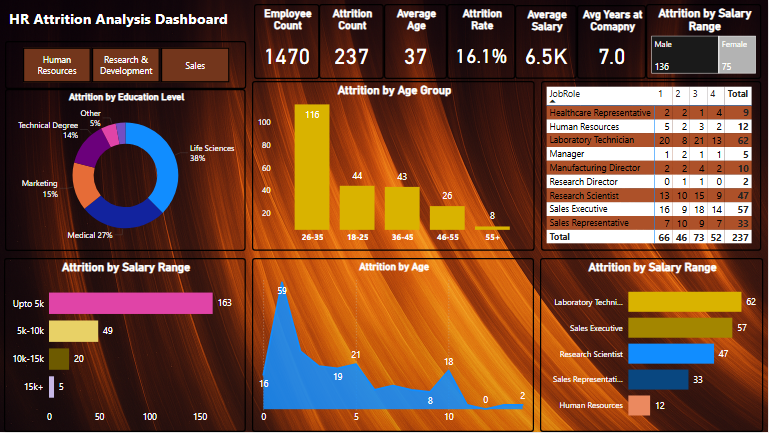

Layout of this report page (visuals, bound fields, positions):
{"tool":"powerbi","page":{"name":"Page 1","canvas":[1280,720],"ordinal":0},"visuals":[{"type":"card","title":"Employee Count","fields":{"Values":["Sum(HR_Analytics.EmployeeCount)"]},"box":[420,6.7,111.7,125],"z":0},{"type":"card","title":"Attrition Count","fields":{"Values":["Sum(HR_Analytics.Attrition_Count)"]},"box":[532.3,6.2,107.7,124.6],"z":1000},{"type":"card","title":"Attrition Rate","fields":{"Values":["HR_Analytics.Attrition_Rate"]},"box":[744.6,6.2,113.8,124.6],"z":2000},{"type":"card","title":"Average Age","fields":{"Values":["Avg(HR_Analytics.Age)"]},"box":[640,6.2,104.6,124.6],"z":3000},{"type":"card","title":"Average Salary","fields":{"Values":["Avg(HR_Analytics.MonthlyIncome)"]},"box":[858.5,7.7,103.1,123.1],"z":4000},{"type":"card","title":"Avg Years at Comapny","fields":{"Values":["Avg(HR_Analytics.YearsAtCompany)"]},"box":[961.5,7.7,115.4,123.1],"z":5000},{"type":"donutChart","title":"Attrition by Education Level","fields":{"Y":["Sum(HR_Analytics.Attrition_Count)"],"Category":["HR_Analytics.EducationField"]},"box":[0,148.3,410,270],"z":6000},{"type":"columnChart","title":"Attrition by Age Group","fields":{"Category":["HR_Analytics.AgeGroup"],"Y":["Sum(HR_Analytics.Attrition_Count)"]},"box":[420,135.4,470.8,283.1],"z":7000},{"type":"pivotTable","fields":{"Values":["Sum(HR_Analytics.Attrition_Count)"],"Columns":["HR_Analytics.JobSatisfaction"],"Rows":["HR_Analytics.JobRole"]},"box":[901.7,135,378.3,283.3],"z":8000},{"type":"barChart","title":"Attrition by Salary Range","fields":{"Category":["HR_Analytics.SalarySlab"],"Y":["Sum(HR_Analytics.Attrition_Count)"]},"box":[0,428.3,408.3,291.7],"z":9000},{"type":"treemap","title":"Attrition by Salary Range","fields":{"Group":["HR_Analytics.Gender","HR_Analytics.JobRole"],"Values":["Sum(HR_Analytics.Attrition_Count)"]},"box":[1076.7,8.3,203.3,123.3],"z":10000},{"type":"areaChart","title":"Attrition by Age ","fields":{"Y":["Sum(HR_Analytics.Attrition_Count)"],"Category":["HR_Analytics.YearsAtCompany"]},"box":[420,428.3,470,291.7],"z":11000},{"type":"barChart","title":"Attrition by Salary Range","fields":{"Category":["HR_Analytics.JobRole"],"Y":["Sum(HR_Analytics.Attrition_Count)"]},"box":[898.3,428.3,381.7,291.7],"z":12000},{"type":"slicer","fields":{"Values":["HR_Analytics.Department"]},"box":[0,68.3,410,80],"z":13000},{"type":"textbox","box":[9.2,7.7,401.5,47.7],"z":14000}]}

Visuals, with their boxes in screenshot pixels (x1, y1, x2, y2), scaled from the page's 1280x720 canvas onto the 769x433 screenshot:
"Employee Count" card: [x1=252, y1=4, x2=319, y2=79]
"Attrition Count" card: [x1=320, y1=4, x2=384, y2=79]
"Attrition Rate" card: [x1=447, y1=4, x2=516, y2=79]
"Average Age" card: [x1=384, y1=4, x2=447, y2=79]
"Average Salary" card: [x1=516, y1=5, x2=578, y2=79]
"Avg Years at Comapny" card: [x1=578, y1=5, x2=647, y2=79]
"Attrition by Education Level" donutChart: [x1=0, y1=89, x2=246, y2=252]
"Attrition by Age Group" columnChart: [x1=252, y1=81, x2=535, y2=252]
pivotTable - Sum(HR_Analytics.Attrition_Count) x HR_Analytics.JobSatisfaction: [x1=542, y1=81, x2=768, y2=252]
"Attrition by Salary Range" barChart: [x1=0, y1=258, x2=245, y2=432]
"Attrition by Salary Range" treemap: [x1=647, y1=5, x2=768, y2=79]
"Attrition by Age " areaChart: [x1=252, y1=258, x2=535, y2=432]
"Attrition by Salary Range" barChart: [x1=540, y1=258, x2=768, y2=432]
slicer - HR_Analytics.Department: [x1=0, y1=41, x2=246, y2=89]
textbox: [x1=6, y1=5, x2=247, y2=33]
